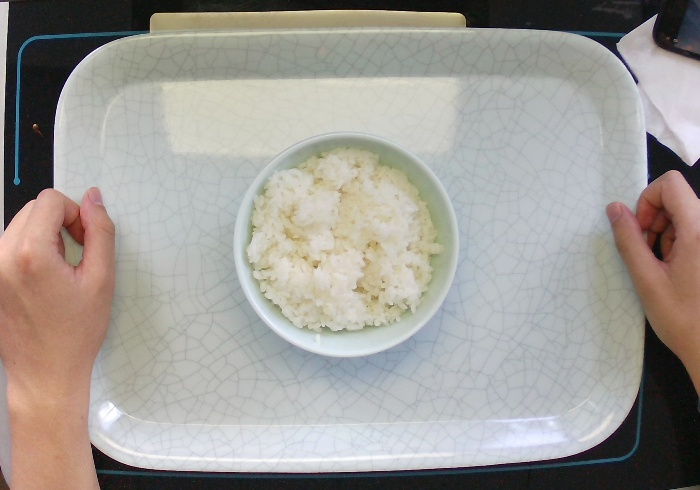JYsf-Fan_Wan: (229, 129, 462, 360)
